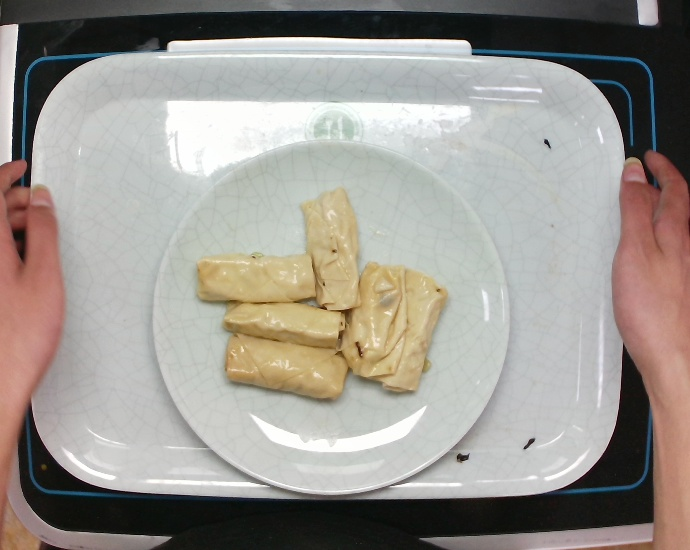JYsf-Da_Yuan_Pan: (144, 130, 520, 498)
